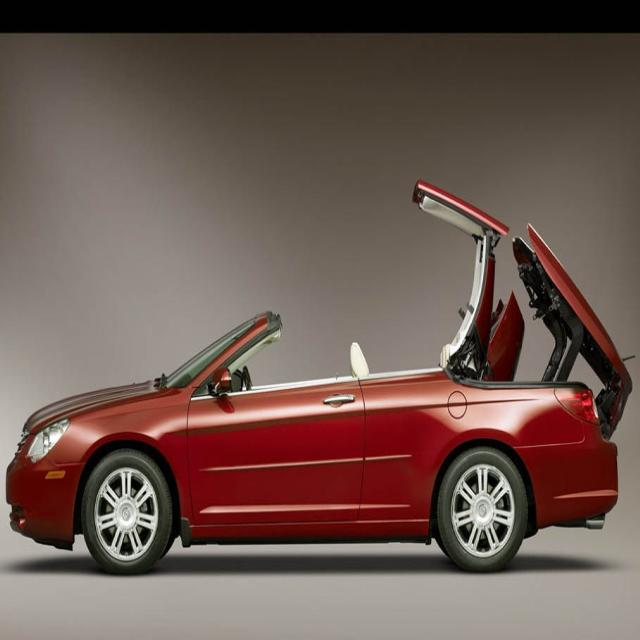back_left_side_light: (552, 382, 601, 424)
front_bumper: (6, 448, 84, 550)
front_glass: (166, 311, 280, 392)
front_left_side_door: (185, 372, 369, 528)
front_left_side_light: (26, 416, 71, 464)
front_left_side_mirror: (217, 367, 236, 398)
wheel: (439, 447, 527, 574), (84, 449, 170, 573)
